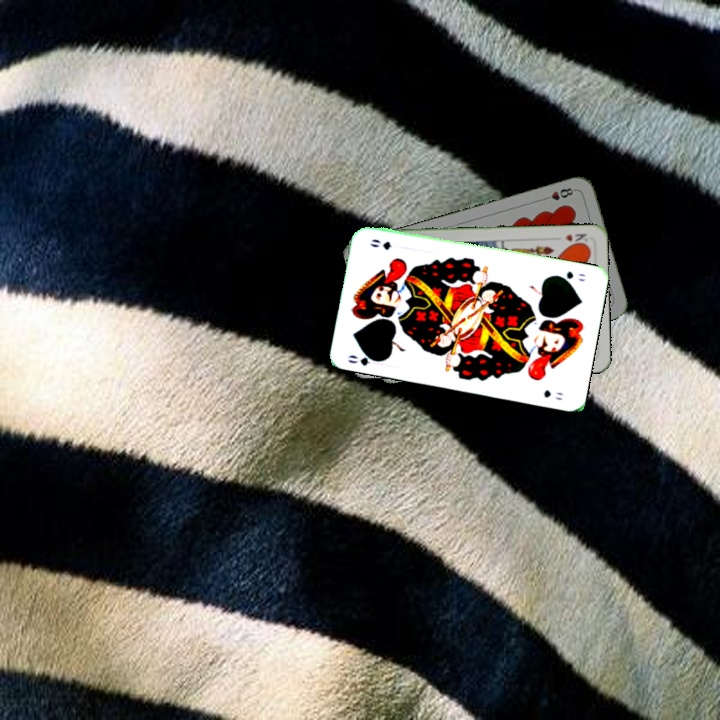GO: (344, 348, 385, 368), (551, 267, 588, 284)
H8: (538, 184, 578, 203)
HK: (561, 230, 589, 244)
